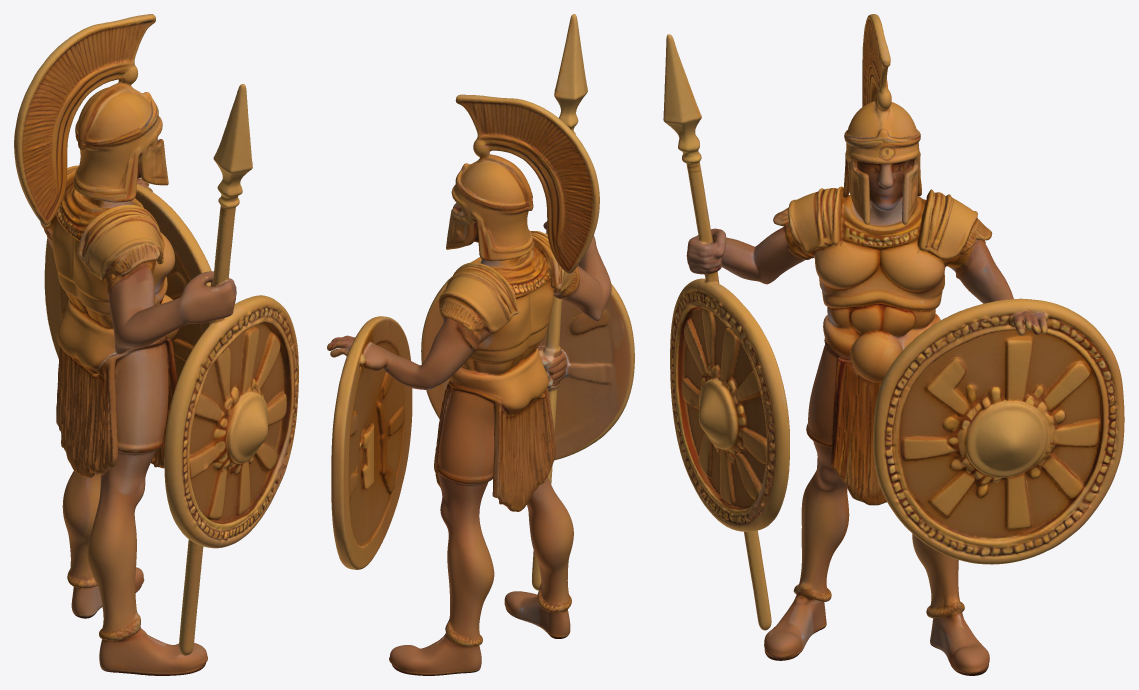
3 renders of one model, left to right at view 1: azimuth 30°, elevation 25°; view 2: azimuth 150°, elevation 25°; view 3: azimuth 270°, elevation 25°, orthographic. The views are drawn at different scales.
Parts seen in each view (by area): view 1: tripo_node_9c4ae78b-20d6-407d-99fc-37c2326a20bf; view 2: tripo_node_9c4ae78b-20d6-407d-99fc-37c2326a20bf; view 3: tripo_node_9c4ae78b-20d6-407d-99fc-37c2326a20bf.
Part boxes in pixels (x1,y1,x2,y2): tripo_node_9c4ae78b-20d6-407d-99fc-37c2326a20bf: (14, 14, 298, 675); tripo_node_9c4ae78b-20d6-407d-99fc-37c2326a20bf: (327, 14, 634, 675); tripo_node_9c4ae78b-20d6-407d-99fc-37c2326a20bf: (663, 14, 1124, 675).
Bounding box in the file's own units: 0.4003 × 1 × 0.6724.
1 material, 1 textured.
